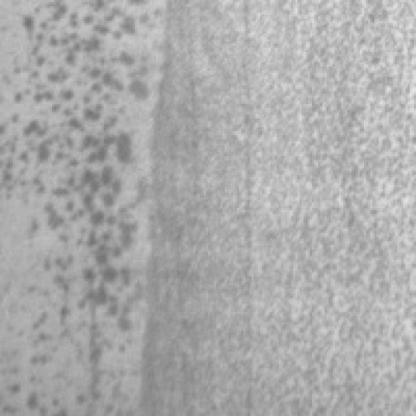pitted_surface: (158, 0, 414, 412), (3, 0, 140, 412)
